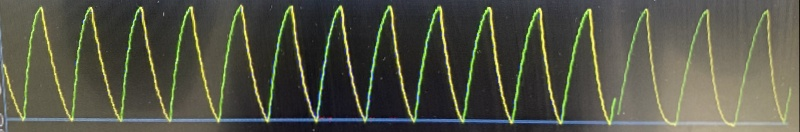normal_volume: (0, 0, 798, 128)
